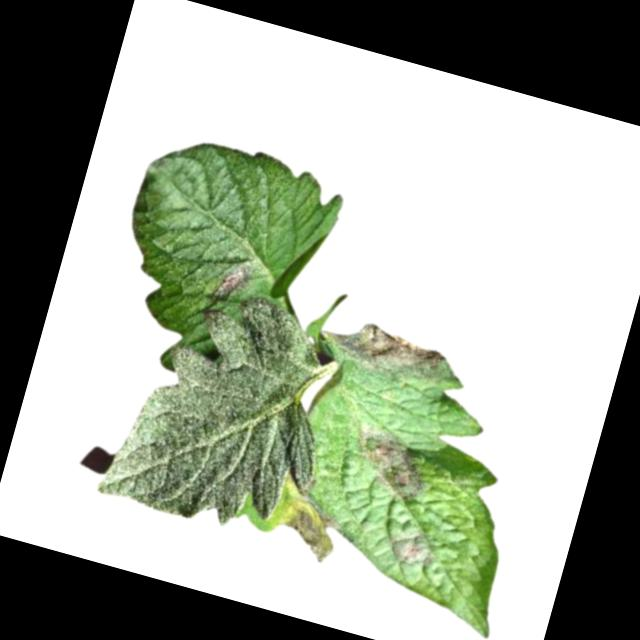Late_blight: (319, 311, 463, 394), (341, 415, 436, 504), (272, 479, 348, 566), (383, 522, 446, 575), (216, 260, 256, 304)
healthy: (95, 269, 361, 551)
